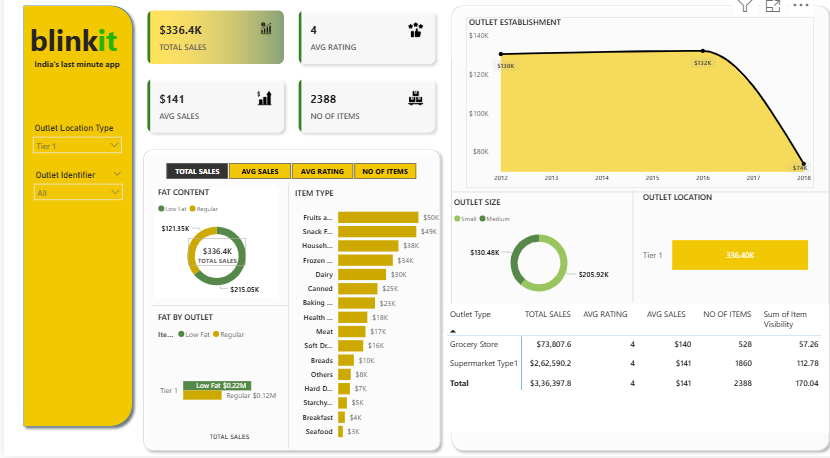

This screenshot's page, from the dashboard's own definition file:
{"tool":"powerbi","page":{"name":"Page 1","canvas":[1400,800],"ordinal":0},"visuals":[{"type":"shape","box":[23.3,40,200,720],"z":0},{"type":"textbox","box":[39,68,167,91],"z":1000},{"type":"cardVisual","fields":{"Data":["BlinkIT Grocery Data.total_sales","BlinkIT Grocery Data.Avg Rating","BlinkIT Grocery Data.Avg Sales","BlinkIT Grocery Data.No of Items"]},"box":[222,40,514,238],"z":2000},{"type":"shape","box":[222.9,280,512.9,520],"z":3000},{"type":"donutChart","title":"FAT CONTENT","fields":{"Y":["BlinkIT Grocery Data.TOTAL SALES"],"Category":["BlinkIT Grocery Data.Item Fat Content"]},"box":[251.2,352.4,206.5,186.5],"z":4000},{"type":"slicer","fields":{"Values":["METRICS 2.METRICS"]},"box":[245.6,305.6,465.6,40],"z":5000},{"type":"cardVisual","fields":{"Data":["BlinkIT Grocery Data.TOTAL SALES"]},"box":[301.7,431.7,106.7,56.7],"z":6000},{"type":"clusteredBarChart","title":"FAT BY OUTLET","fields":{"Y":["BlinkIT Grocery Data.TOTAL SALES"],"Category":["BlinkIT Grocery Data.Outlet Location Type"],"Series":["BlinkIT Grocery Data.Item Fat Content"]},"box":[251,560,207,219],"z":7000},{"type":"shape","box":[246,544,228,12],"z":8000},{"type":"shape","box":[468,345,12,443],"z":9000},{"type":"barChart","title":"ITEM TYPE","fields":{"Y":["BlinkIT Grocery Data.TOTAL SALES"],"Category":["BlinkIT Grocery Data.Item Type"]},"box":[480,352.9,255.7,430],"z":10000},{"type":"shape","box":[736,40,648,760],"z":11000},{"type":"lineChart","title":"OUTLET ESTABLISHMENT","fields":{"Category":["BlinkIT Grocery Data.Outlet Establishment Year"],"Y":["BlinkIT Grocery Data.TOTAL SALES"]},"box":[770,68,580,286],"z":12000},{"type":"shape","box":[745,353.3,630,13.3],"z":13000},{"type":"donutChart","title":"OUTLET SIZE","fields":{"Y":["BlinkIT Grocery Data.TOTAL SALES"],"Category":["BlinkIT Grocery Data.Outlet Size"]},"box":[745,368,294,176],"z":14000},{"type":"shape","box":[1039,357,20,187],"z":15000},{"type":"funnel","title":"OUTLET LOCATION","fields":{"Y":["Sum(BlinkIT Grocery Data.Sales)"],"Category":["BlinkIT Grocery Data.Outlet Location Type"]},"box":[1060,360,290,193],"z":16000},{"type":"pivotTable","fields":{"Rows":["BlinkIT Grocery Data.Outlet Type"],"Values":["BlinkIT Grocery Data.TOTAL SALES","BlinkIT Grocery Data.AVG RATING","BlinkIT Grocery Data.AVG SALES","BlinkIT Grocery Data.NO OF ITEMS","Sum(BlinkIT Grocery Data.Item Visibility)"]},"box":[734,546,642,214],"z":17000},{"type":"slicer","fields":{"Values":["BlinkIT Grocery Data.Outlet Location Type"]},"box":[38,240,168,66],"z":18000},{"type":"slicer","fields":{"Values":["BlinkIT Grocery Data.Outlet Identifier"]},"box":[40,318,168,66],"z":19000}]}

Visuals, with their boxes on the page's 1400x800 design canvas (x1, y1, x2, y2). These are canvas units, not pixel positions in the 830x458 screenshot, which may show the page scaled, cropped or inside an application window:
shape: bbox=[23, 40, 223, 760]
textbox: bbox=[39, 68, 206, 159]
cardVisual - BlinkIT Grocery Data.total_sales x BlinkIT Grocery Data.Avg Rating: bbox=[222, 40, 736, 278]
shape: bbox=[223, 280, 736, 800]
"FAT CONTENT" donutChart: bbox=[251, 352, 458, 539]
slicer - METRICS 2.METRICS: bbox=[246, 306, 711, 346]
cardVisual - BlinkIT Grocery Data.TOTAL SALES: bbox=[302, 432, 408, 488]
"FAT BY OUTLET" clusteredBarChart: bbox=[251, 560, 458, 779]
shape: bbox=[246, 544, 474, 556]
shape: bbox=[468, 345, 480, 788]
"ITEM TYPE" barChart: bbox=[480, 353, 736, 783]
shape: bbox=[736, 40, 1384, 800]
"OUTLET ESTABLISHMENT" lineChart: bbox=[770, 68, 1350, 354]
shape: bbox=[745, 353, 1375, 367]
"OUTLET SIZE" donutChart: bbox=[745, 368, 1039, 544]
shape: bbox=[1039, 357, 1059, 544]
"OUTLET LOCATION" funnel: bbox=[1060, 360, 1350, 553]
pivotTable - BlinkIT Grocery Data.Outlet Type x BlinkIT Grocery Data.TOTAL SALES: bbox=[734, 546, 1376, 760]
slicer - BlinkIT Grocery Data.Outlet Location Type: bbox=[38, 240, 206, 306]
slicer - BlinkIT Grocery Data.Outlet Identifier: bbox=[40, 318, 208, 384]
